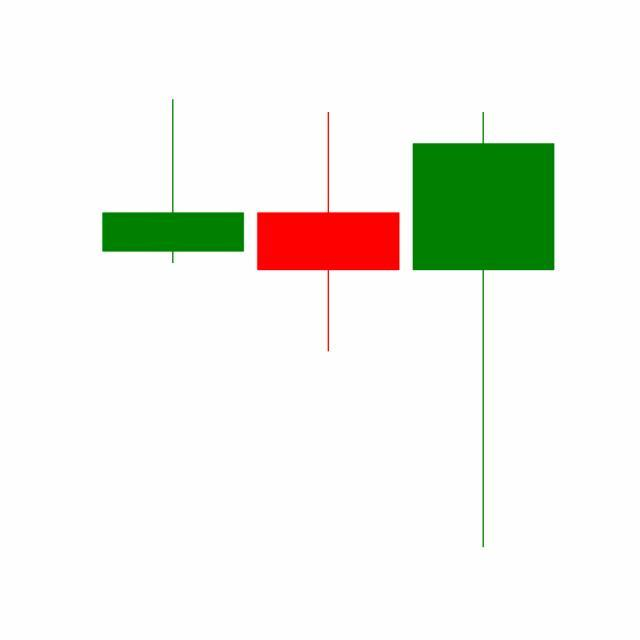Spinning Top: (250, 110, 407, 356)
